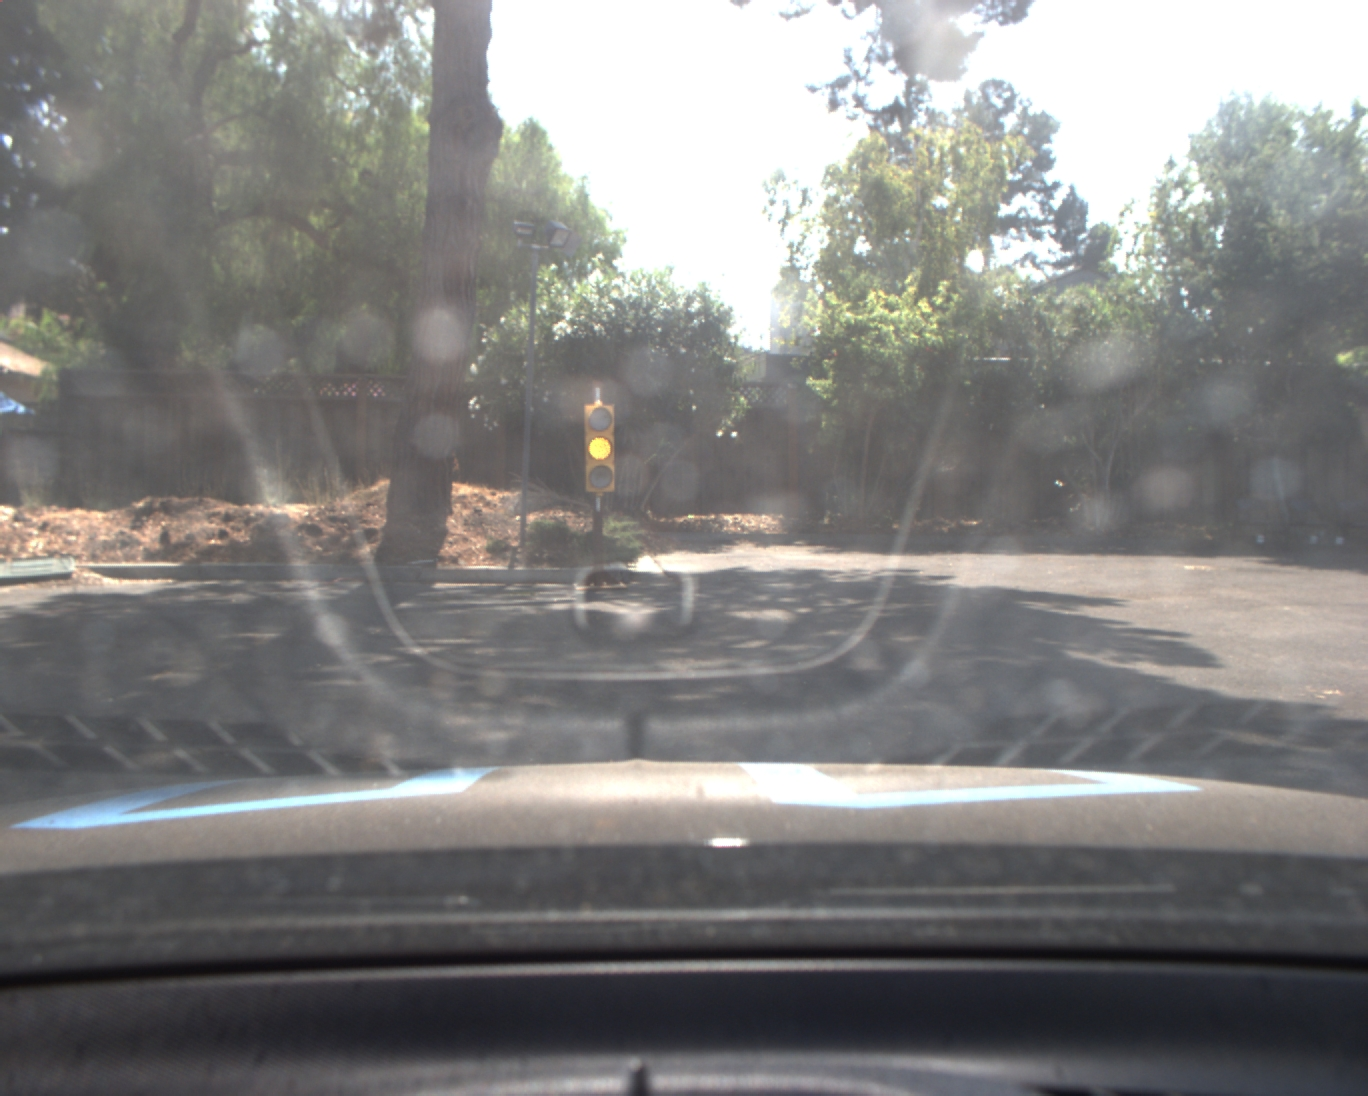yellow: (585, 402, 621, 497)
